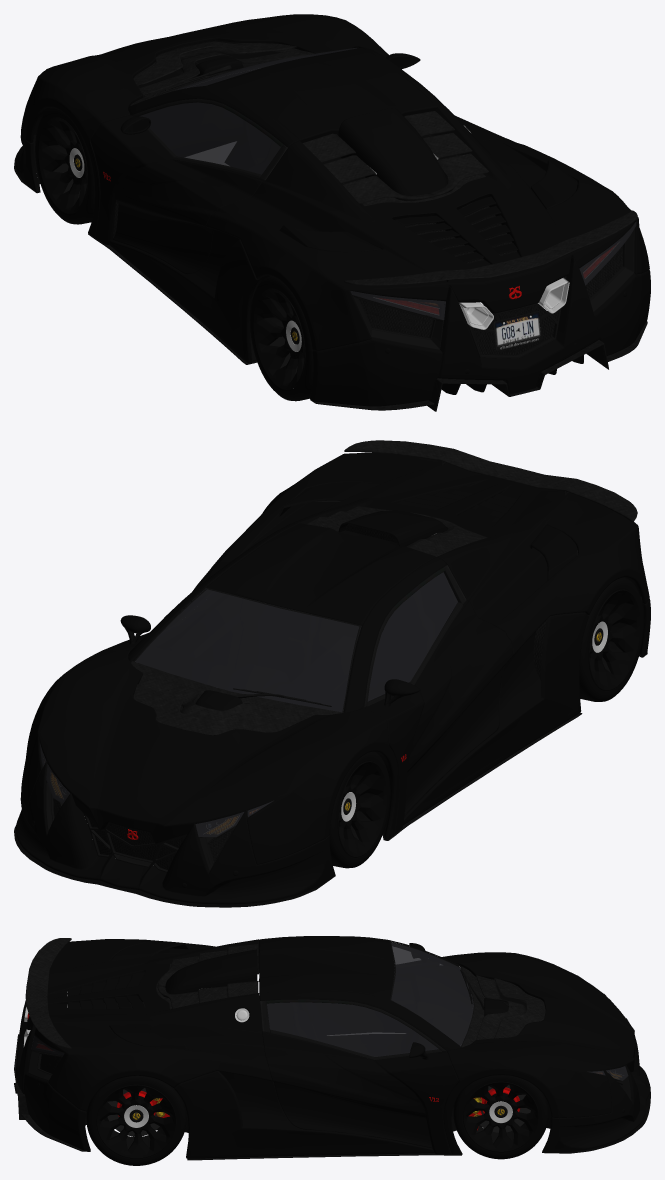
File: car.glb
3 renders of one model, top to bottom at view 1: azimuth 30°, elevation 25°; view 2: azimuth 150°, elevation 25°; view 3: azimuth 270°, elevation 25°, orthographic. The views are drawn at different scales.
Parts seen in each view (by area): view 1: Paint, Body, Glass, car_wheel_BL, car_wheel_FL; view 2: Paint, Body, Glass, car_wheel_BL, car_wheel_FL; view 3: Paint, Body, Glass, car_wheel_BR, car_wheel_FR.
Part boxes in pixels (x1,y1,x2,y2): Paint: (15, 14, 650, 406); Body: (14, 40, 647, 411); Glass: (139, 48, 636, 320); car_wheel_BL: (250, 276, 313, 401); car_wheel_FL: (35, 107, 94, 224); Paint: (15, 452, 650, 904); Body: (14, 440, 647, 907); Glass: (40, 572, 457, 837); car_wheel_BL: (579, 577, 644, 701); car_wheel_FL: (329, 751, 390, 868); Paint: (16, 936, 649, 1158); Body: (14, 938, 650, 1160); Glass: (31, 942, 628, 1080); car_wheel_BR: (86, 1075, 186, 1165); car_wheel_FR: (453, 1075, 548, 1159).
Bounding box in the file's own units: 2.21 × 1.17 × 4.61.
Materials: 4 (1 with a texture image).
